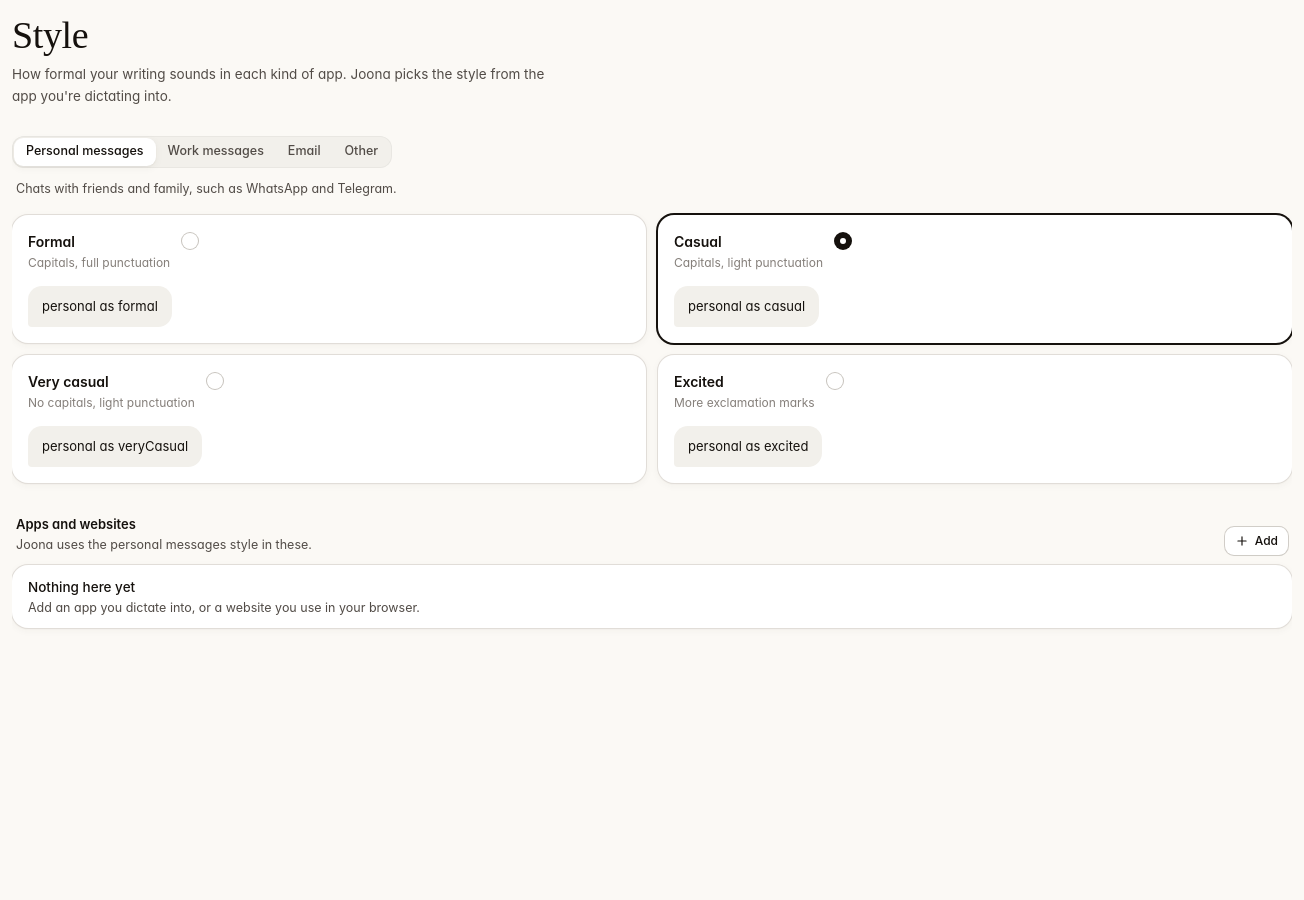
it: Style › lists apps under the category picked for them, and resets them
The width and height of the screenshot is (1304, 900).
Expected: the element named "Style for Personal messages" is shown, left=12, top=214, right=1292, bottom=483
Expected: the text "Nothing here yet" is shown, left=28, top=579, right=135, bottom=595
Click the radio button labelled "Work messages" at (216, 152), box left=156, top=138, right=276, bottom=166
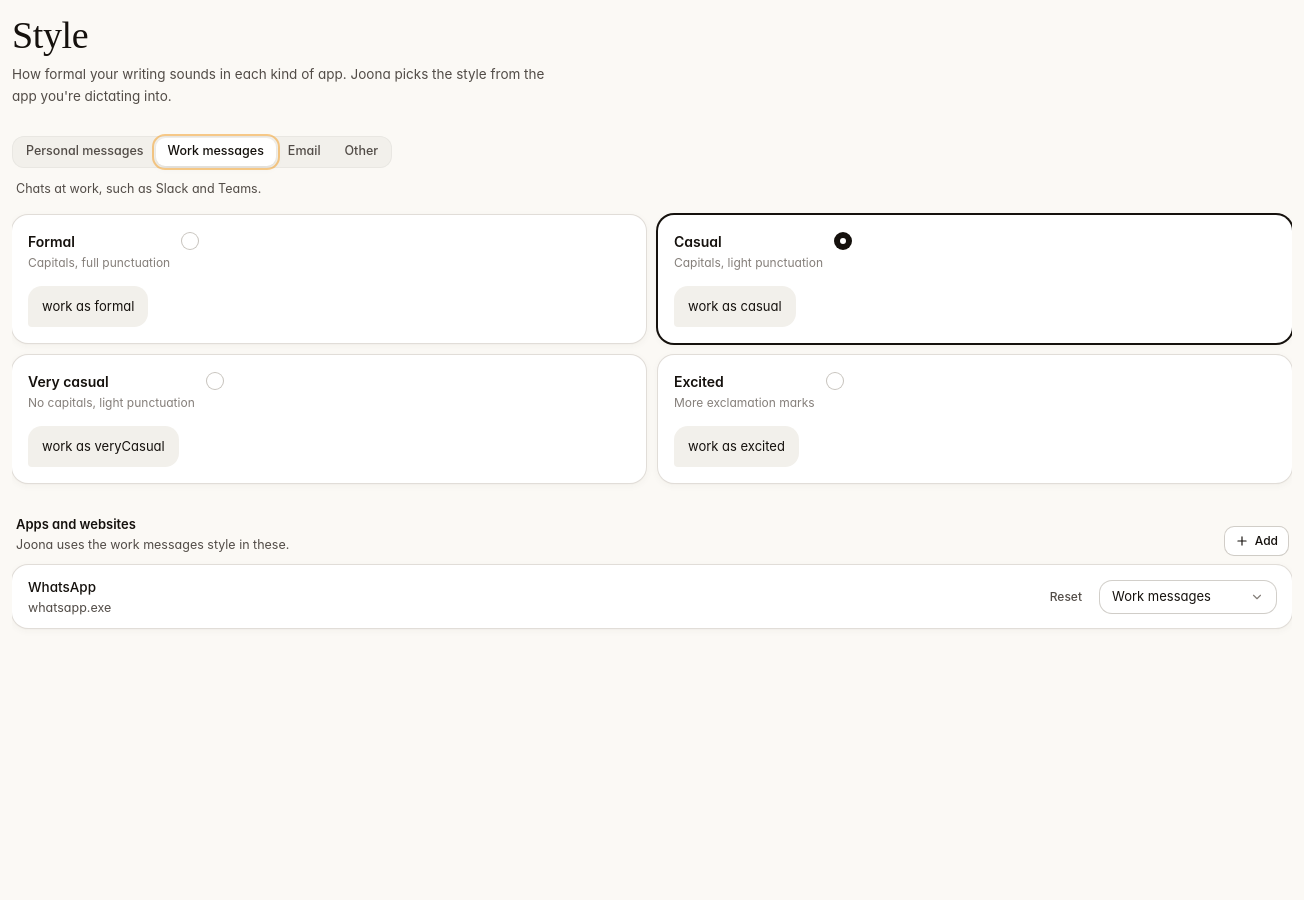
Now the text "WhatsApp" is shown, box left=28, top=577, right=96, bottom=597
Click the button "Reset" at (1066, 597), box left=1040, top=583, right=1092, bottom=611
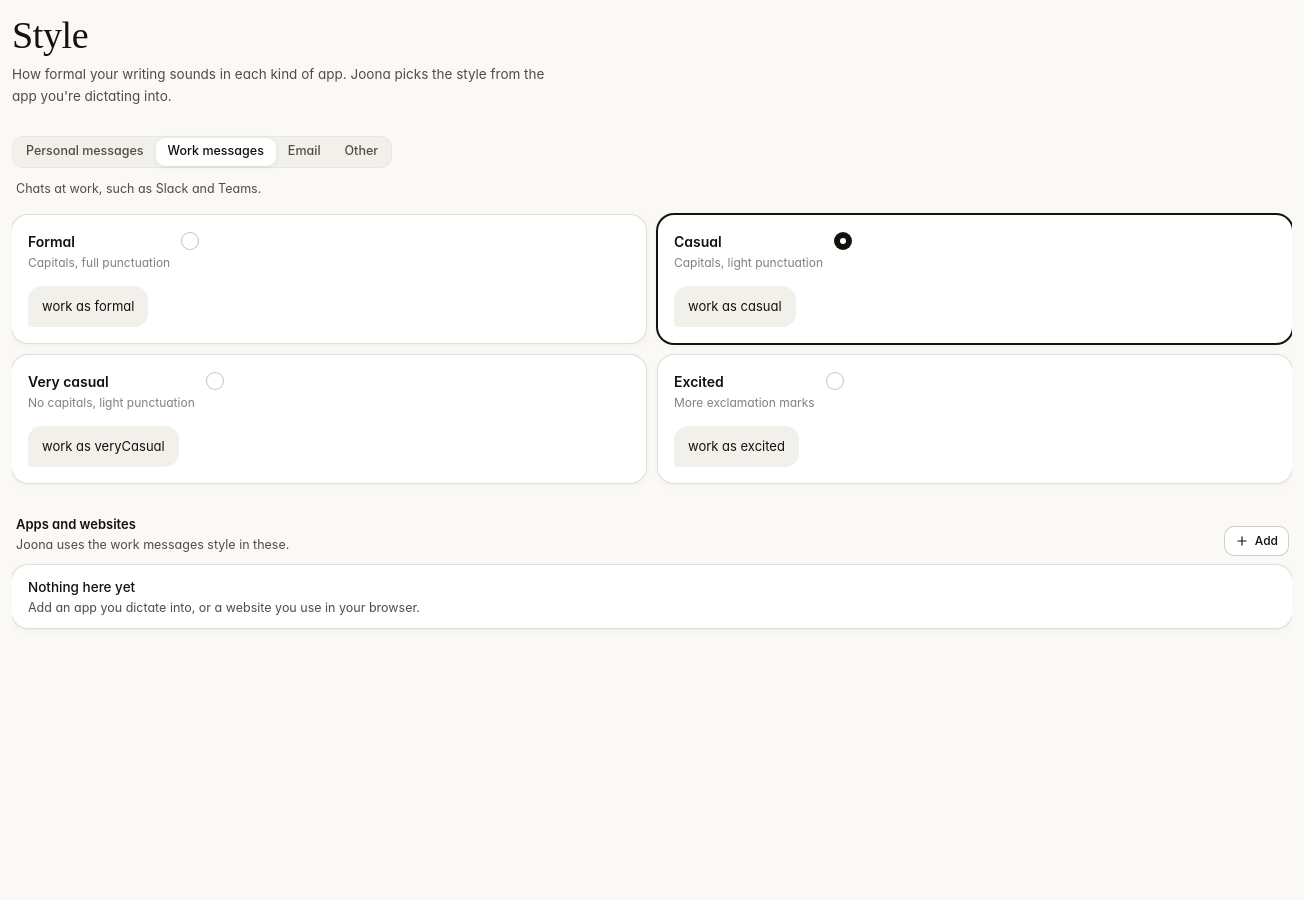
Now the text "WhatsApp" is gone
